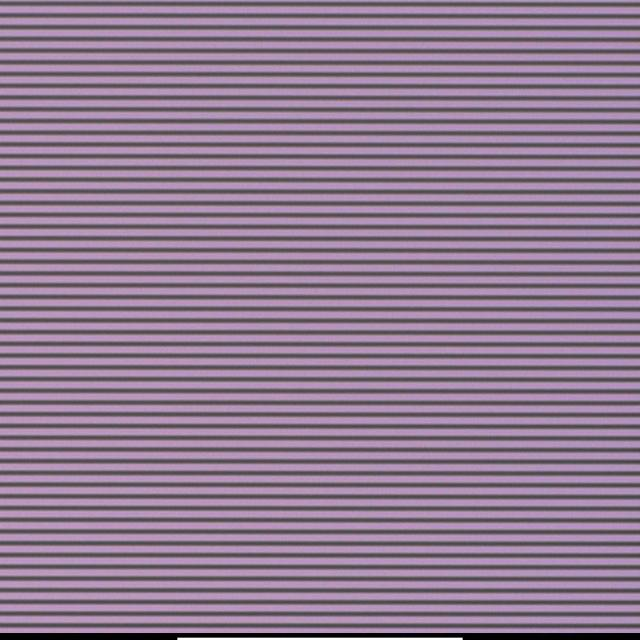nonvisual: (275, 279, 281, 293)
